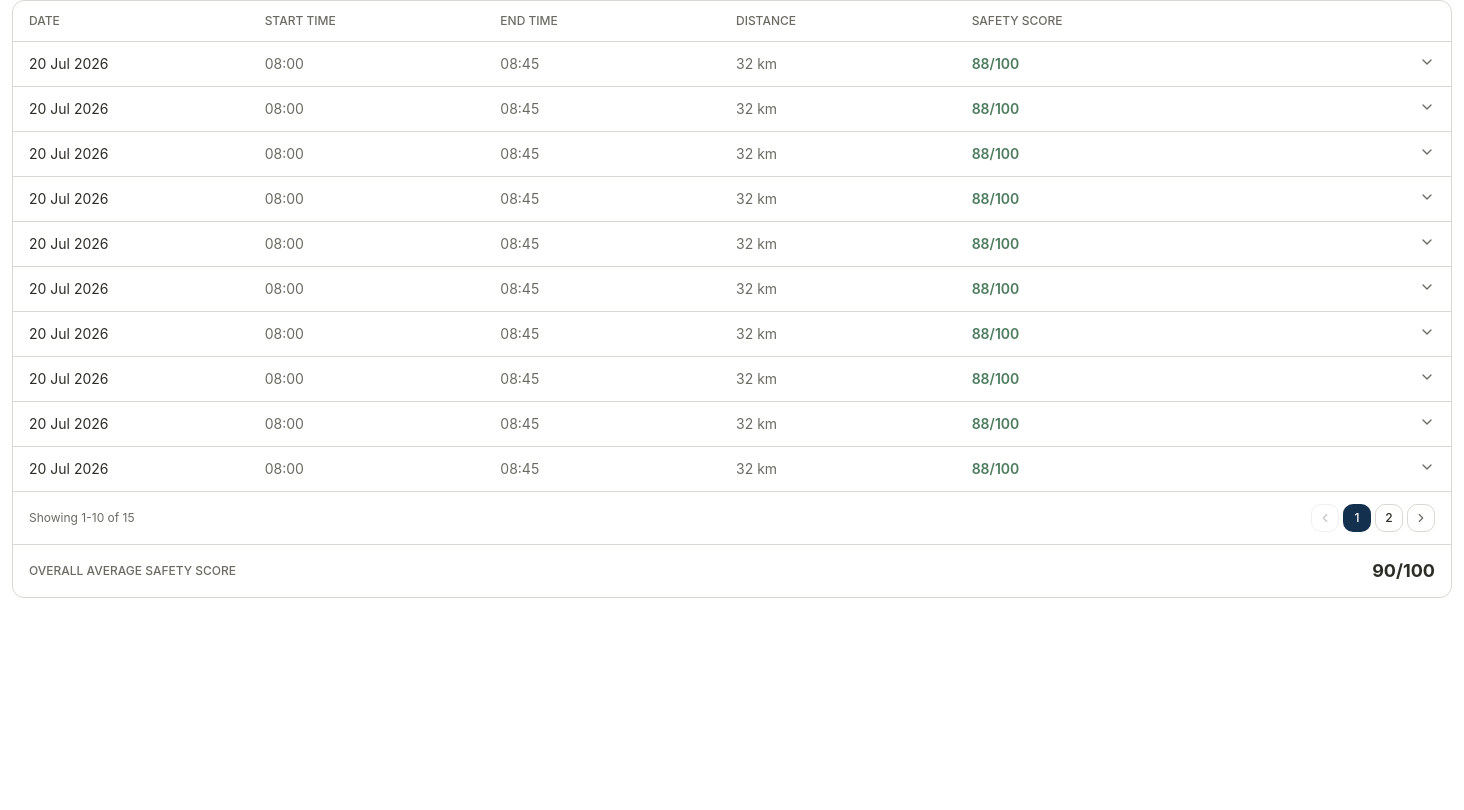
Test: TripHistoryList › disables the prev button on page 1 and next button on the last page
Expected: the button with test id "trips-page-prev" is disabled, [1311,504,1339,532]
Click the button with test id "trips-page-next". click: (1421, 518)
box: [1407,504,1435,532]
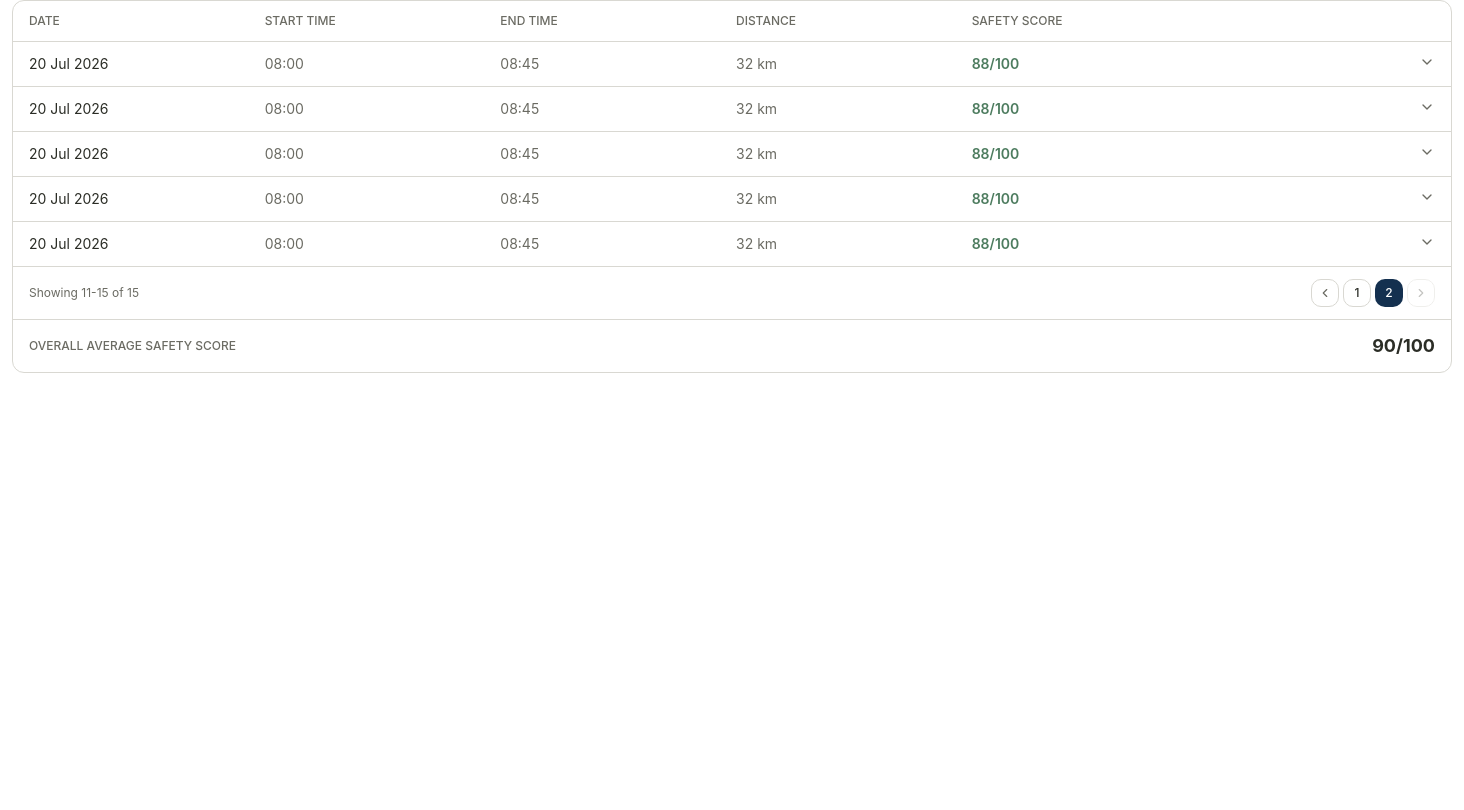
Now the button with test id "trips-page-next" is disabled, box [1407,279,1435,307]
